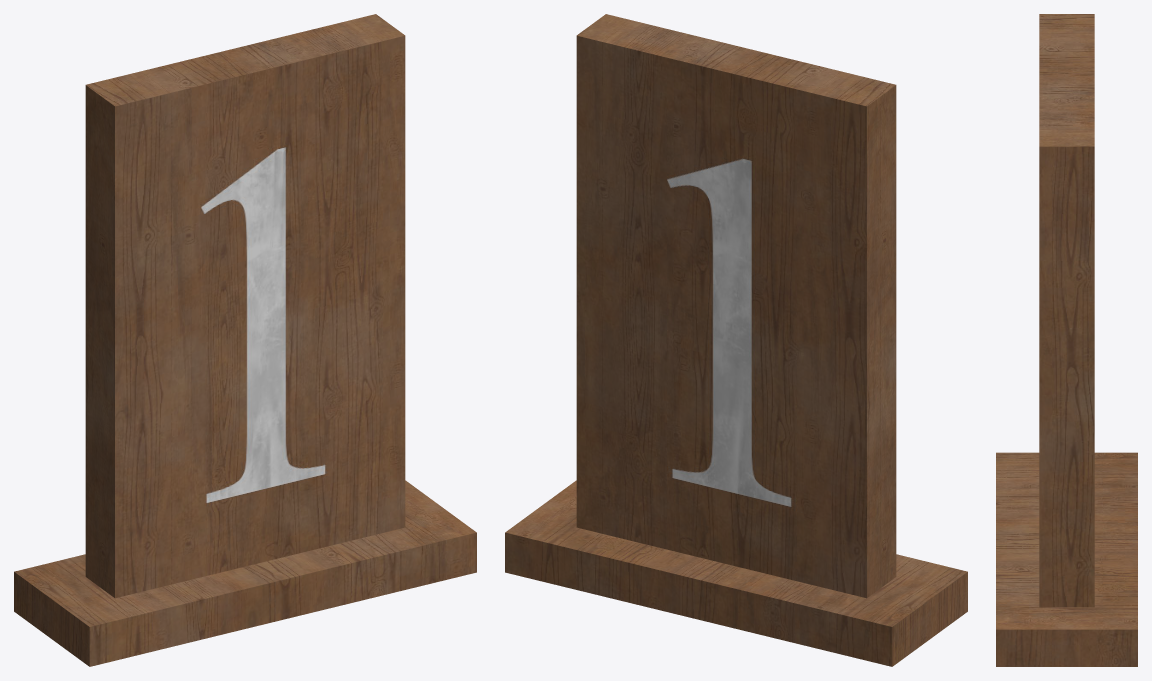
Rendered from Number01Virginia.fbx.
The picture shows the model from 3 angles, left to right: view 1: azimuth 30°, elevation 25°; view 2: azimuth 150°, elevation 25°; view 3: azimuth 270°, elevation 25°; orthographic projection. The views are drawn at different scales.
Visible parts, largest first — view 1: Number01; view 2: Number01; view 3: Number01.
Part boxes in pixels (box(x1,y1,x2,y2)): Number01: box(14, 14, 476, 666); Number01: box(505, 14, 967, 666); Number01: box(996, 14, 1137, 666).
Bounding box in the file's own units: 5.89 × 7.73 × 1.99.
1 material, 1 textured.
